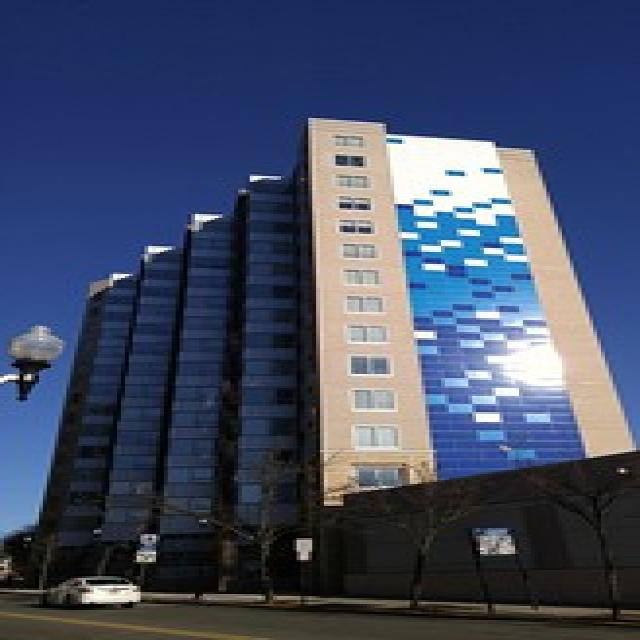building: (33, 113, 634, 611)
